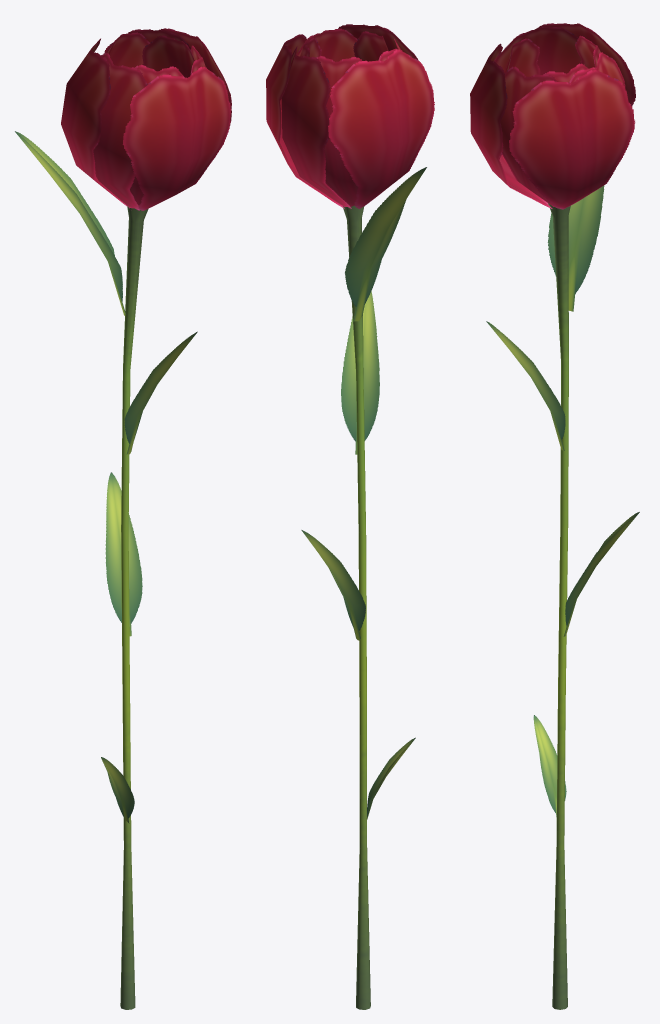
File: ENV1110019.FBX
3 renders of one model, left to right at view 1: azimuth 30°, elevation 25°; view 2: azimuth 150°, elevation 25°; view 3: azimuth 270°, elevation 25°, orthographic.
Parts seen in each view (by area): view 1: smENV1110019; view 2: smENV1110019; view 3: smENV1110019.
Part boxes in pixels (left/top/right/bottom): smENV1110019: left=15, top=28, right=231, bottom=1009; smENV1110019: left=266, top=24, right=434, bottom=1009; smENV1110019: left=470, top=23, right=639, bottom=1009.
Bounding box in the file's own units: 4.21 × 21.81 × 3.57.
1 material, 1 textured.
